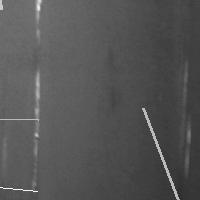scratches: (138, 103, 183, 200), (177, 61, 193, 180), (27, 68, 42, 187), (0, 182, 42, 196), (31, 1, 44, 42), (105, 84, 120, 116), (0, 114, 43, 125), (0, 0, 6, 14)
